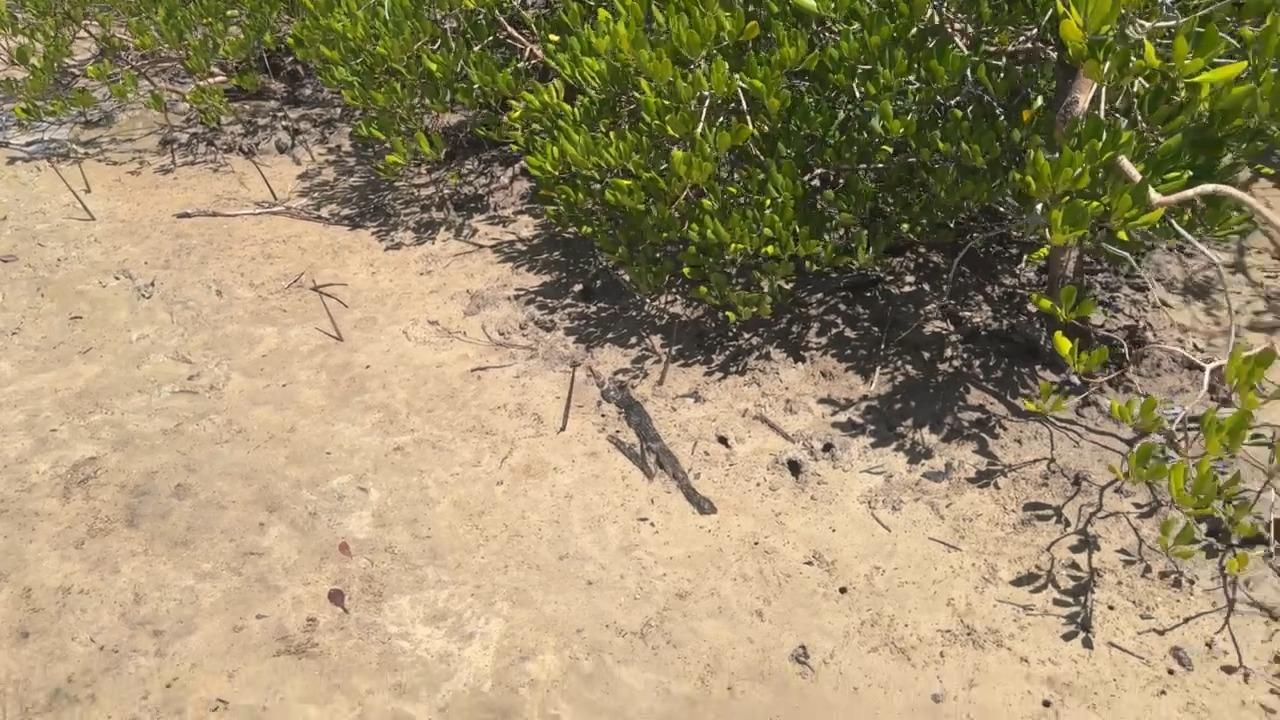Tree: (48, 156, 98, 222), (310, 276, 345, 344), (657, 319, 683, 387), (245, 155, 278, 202), (559, 358, 579, 431), (299, 123, 318, 164), (72, 157, 93, 194)
